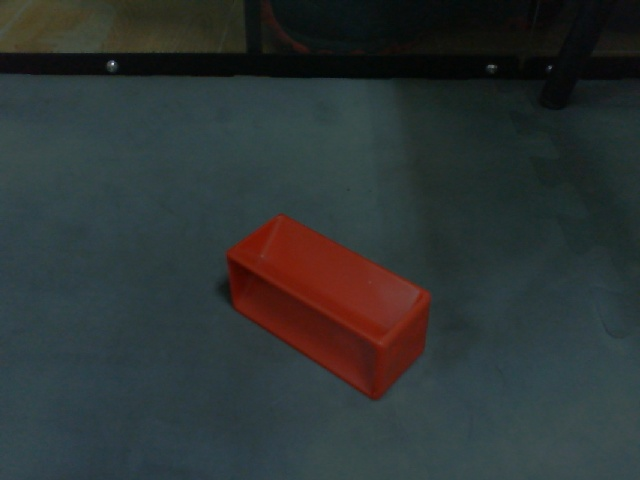RedSample: (223, 212, 432, 403)
